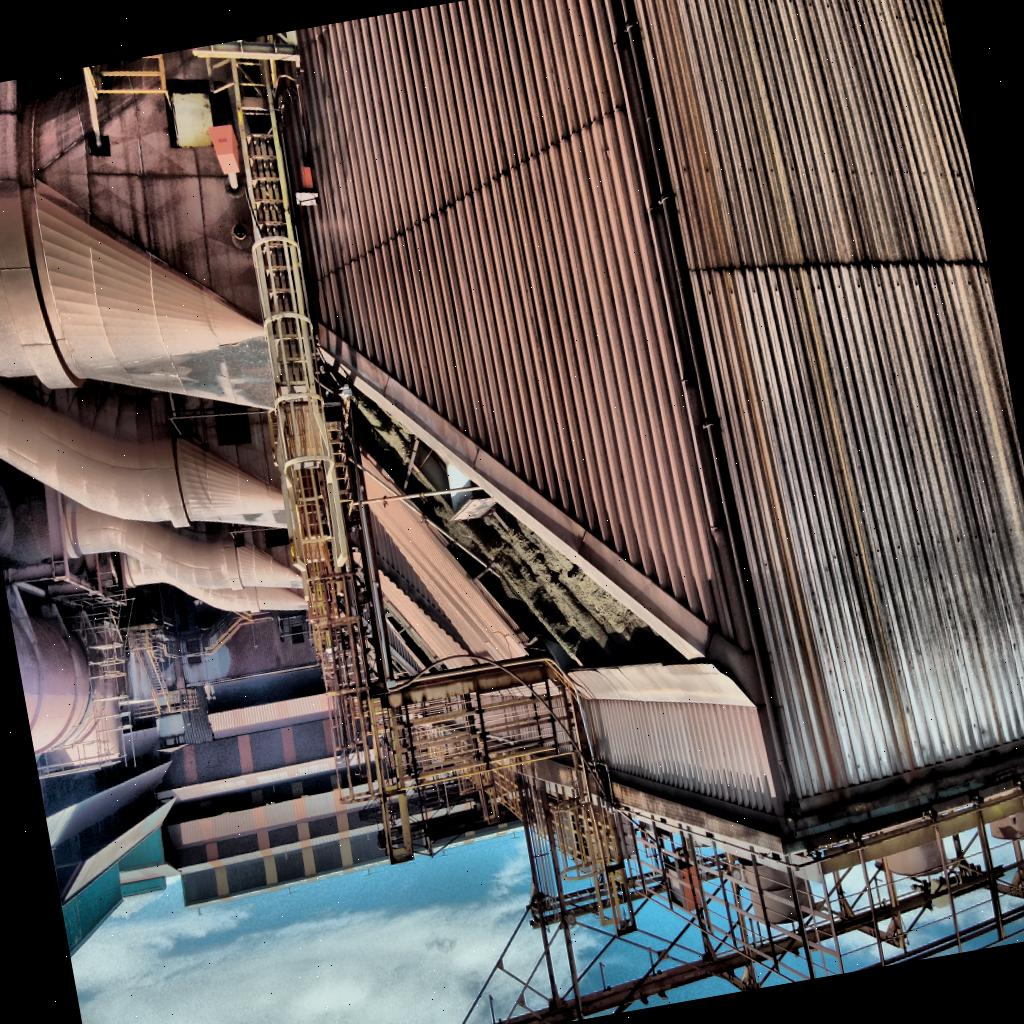Failures: (341, 346, 675, 702)
